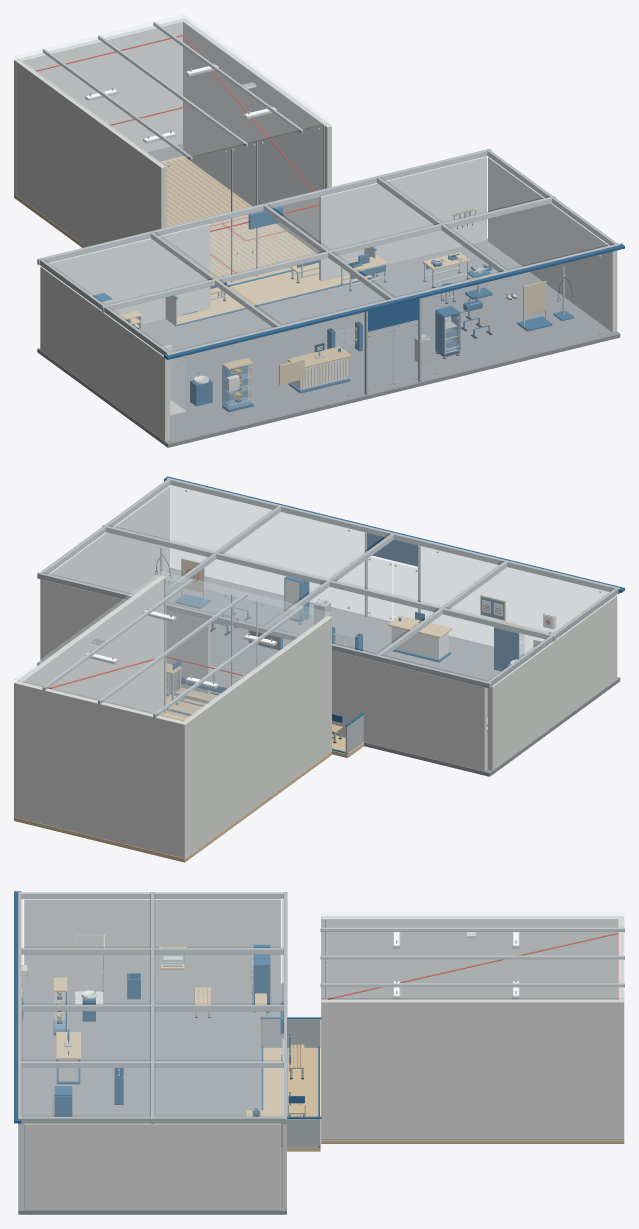
File: squash-club-and-racket-workshop-singles--19d3c9aa-starter-scene__29786.glb
3 renders of one model, top to bottom at view 1: azimuth 30°, elevation 25°; view 2: azimuth 150°, elevation 25°; view 3: azimuth 270°, elevation 25°, orthographic. The views are drawn at different scales.
Parts seen in each view (by area): view 1: 001-club-entrance-building/2, 000-complete-squash-court-shell/1, 001-club-entrance-building/1, 000-complete-squash-court-shell/5, 001-club-entrance-building/0, 001-club-entrance-building/3, 000-complete-squash-court-shell/0, 001-club-entrance-building/4, 000-complete-squash-court-shell/6, 002-viewing-balcony/0, 000-complete-squash-court-shell/3, 017-reception-counter/2 (+8 smaller); view 2: 000-complete-squash-court-shell/1, 001-club-entrance-building/2, 001-club-entrance-building/1, 000-complete-squash-court-shell/5, 001-club-entrance-building/3, 001-club-entrance-building/0, 000-complete-squash-court-shell/6, 001-club-entrance-building/4, 000-complete-squash-court-shell/0, 017-reception-counter/1, 022-trophy-cabinet/0, 002-viewing-balcony/0 (+1 smaller); view 3: 000-complete-squash-court-shell/1, 001-club-entrance-building/2, 001-club-entrance-building/1, 001-club-entrance-building/0, 000-complete-squash-court-shell/5, 001-club-entrance-building/3, 000-complete-squash-court-shell/6, 002-viewing-balcony/0, 002-viewing-balcony/1, 055-shower-cubicle/1, 000-complete-squash-court-shell/0, 001-club-entrance-building/4 (+5 smaller).
Part boxes in pixels (<box>): 001-club-entrance-building/2: <box>44,150,615,441</box>; 000-complete-squash-court-shell/1: <box>14,18,331,253</box>; 001-club-entrance-building/1: <box>40,156,617,441</box>; 000-complete-squash-court-shell/5: <box>14,14,331,282</box>; 001-club-entrance-building/0: <box>37,238,620,447</box>; 001-club-entrance-building/3: <box>37,148,620,435</box>; 000-complete-squash-court-shell/0: <box>14,156,316,285</box>; 001-club-entrance-building/4: <box>164,243,624,359</box>; 000-complete-squash-court-shell/6: <box>42,22,324,282</box>; 002-viewing-balcony/0: <box>165,268,374,326</box>; 000-complete-squash-court-shell/3: <box>35,35,318,273</box>; 017-reception-counter/2: <box>287,346,351,388</box>; 000-complete-squash-court-shell/1: <box>14,575,331,858</box>; 001-club-entrance-building/2: <box>44,479,613,680</box>; 001-club-entrance-building/1: <box>40,486,617,771</box>; 000-complete-squash-court-shell/5: <box>14,571,331,720</box>; 001-club-entrance-building/3: <box>37,477,620,688</box>; 001-club-entrance-building/0: <box>37,568,620,776</box>; 000-complete-squash-court-shell/6: <box>42,578,324,717</box>; 001-club-entrance-building/4: <box>164,476,624,592</box>; 000-complete-squash-court-shell/0: <box>14,710,331,862</box>; 017-reception-counter/1: <box>391,627,448,659</box>; 022-trophy-cabinet/0: <box>494,627,519,671</box>; 002-viewing-balcony/0: <box>166,694,363,757</box>; 000-complete-squash-court-shell/1: <box>321,916,624,1139</box>; 001-club-entrance-building/2: <box>20,893,282,1207</box>; 001-club-entrance-building/1: <box>24,899,286,1210</box>; 001-club-entrance-building/0: <box>18,983,286,1214</box>; 000-complete-squash-court-shell/5: <box>321,912,623,998</box>; 001-club-entrance-building/3: <box>18,892,287,1197</box>; 000-complete-squash-court-shell/6: <box>320,919,624,999</box>; 002-viewing-balcony/0: <box>261,1047,320,1151</box>; 002-viewing-balcony/1: <box>261,1019,320,1147</box>; 055-shower-cubicle/1: <box>76,935,102,990</box>; 000-complete-squash-court-shell/0: <box>321,1140,624,1143</box>; 001-club-entrance-building/4: <box>14,891,21,1123</box>.
Bounding box in the file's own units: 18.2 × 5.41 × 20.48.
